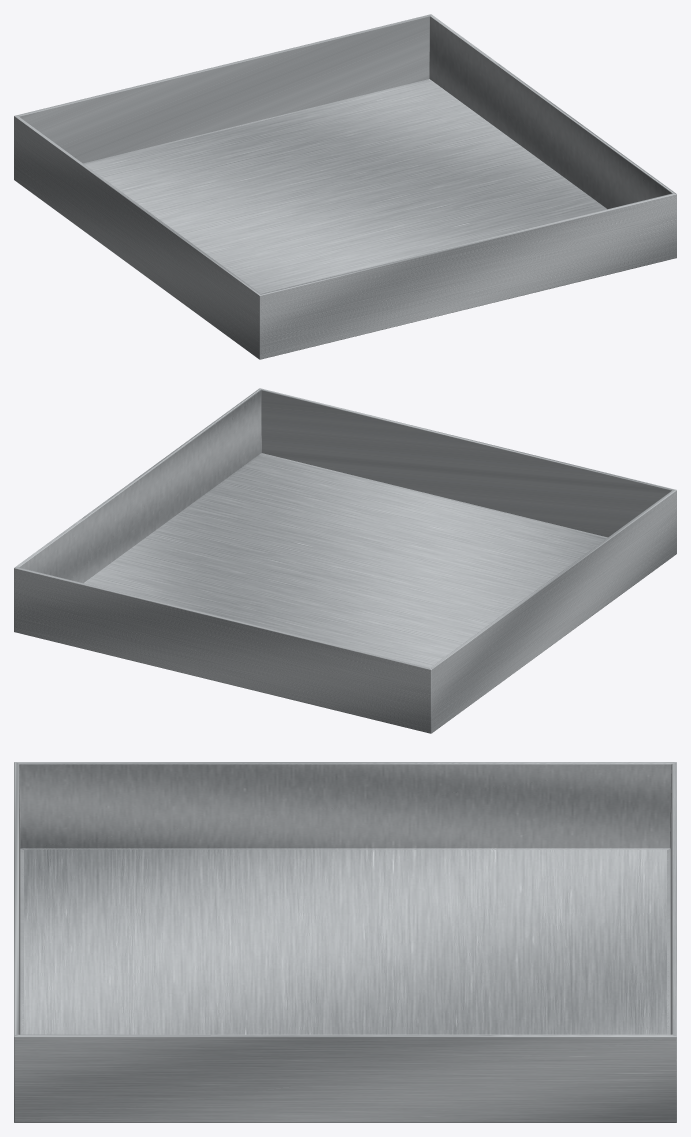
Rendered from light.obj.
3 views of the same model, one above another, from view 1: azimuth 30°, elevation 25°; view 2: azimuth 150°, elevation 25°; view 3: azimuth 270°, elevation 25° (orthographic). The views are drawn at different scales.
Parts seen in each view (by area): view 1: Collapse_AC_Lam_Cei_Mod_2313; view 2: Collapse_AC_Lam_Cei_Mod_2313; view 3: Collapse_AC_Lam_Cei_Mod_2313.
Part boxes in pixels (bbox=[...]): Collapse_AC_Lam_Cei_Mod_2313: bbox=[14, 14, 676, 359]; Collapse_AC_Lam_Cei_Mod_2313: bbox=[14, 388, 676, 733]; Collapse_AC_Lam_Cei_Mod_2313: bbox=[14, 762, 676, 1122].
Bounding box in the file's own units: 65.3 × 9.6 × 66.6.
2 materials, 2 textured.
